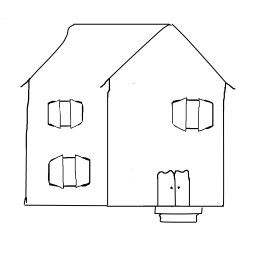door: (152, 166, 197, 210)
open_window: (41, 150, 96, 193), (166, 94, 217, 137), (42, 95, 89, 130)
single_line_roof: (15, 17, 238, 90)
wall: (103, 71, 229, 212)
